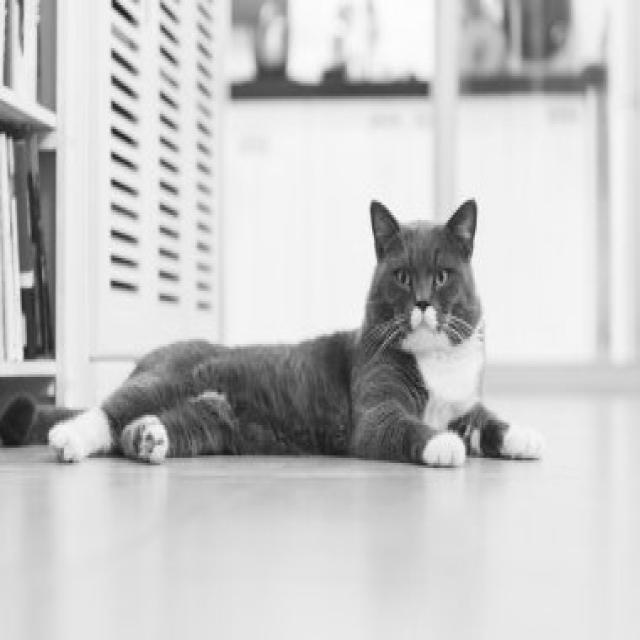Animal: (49, 201, 542, 465)
